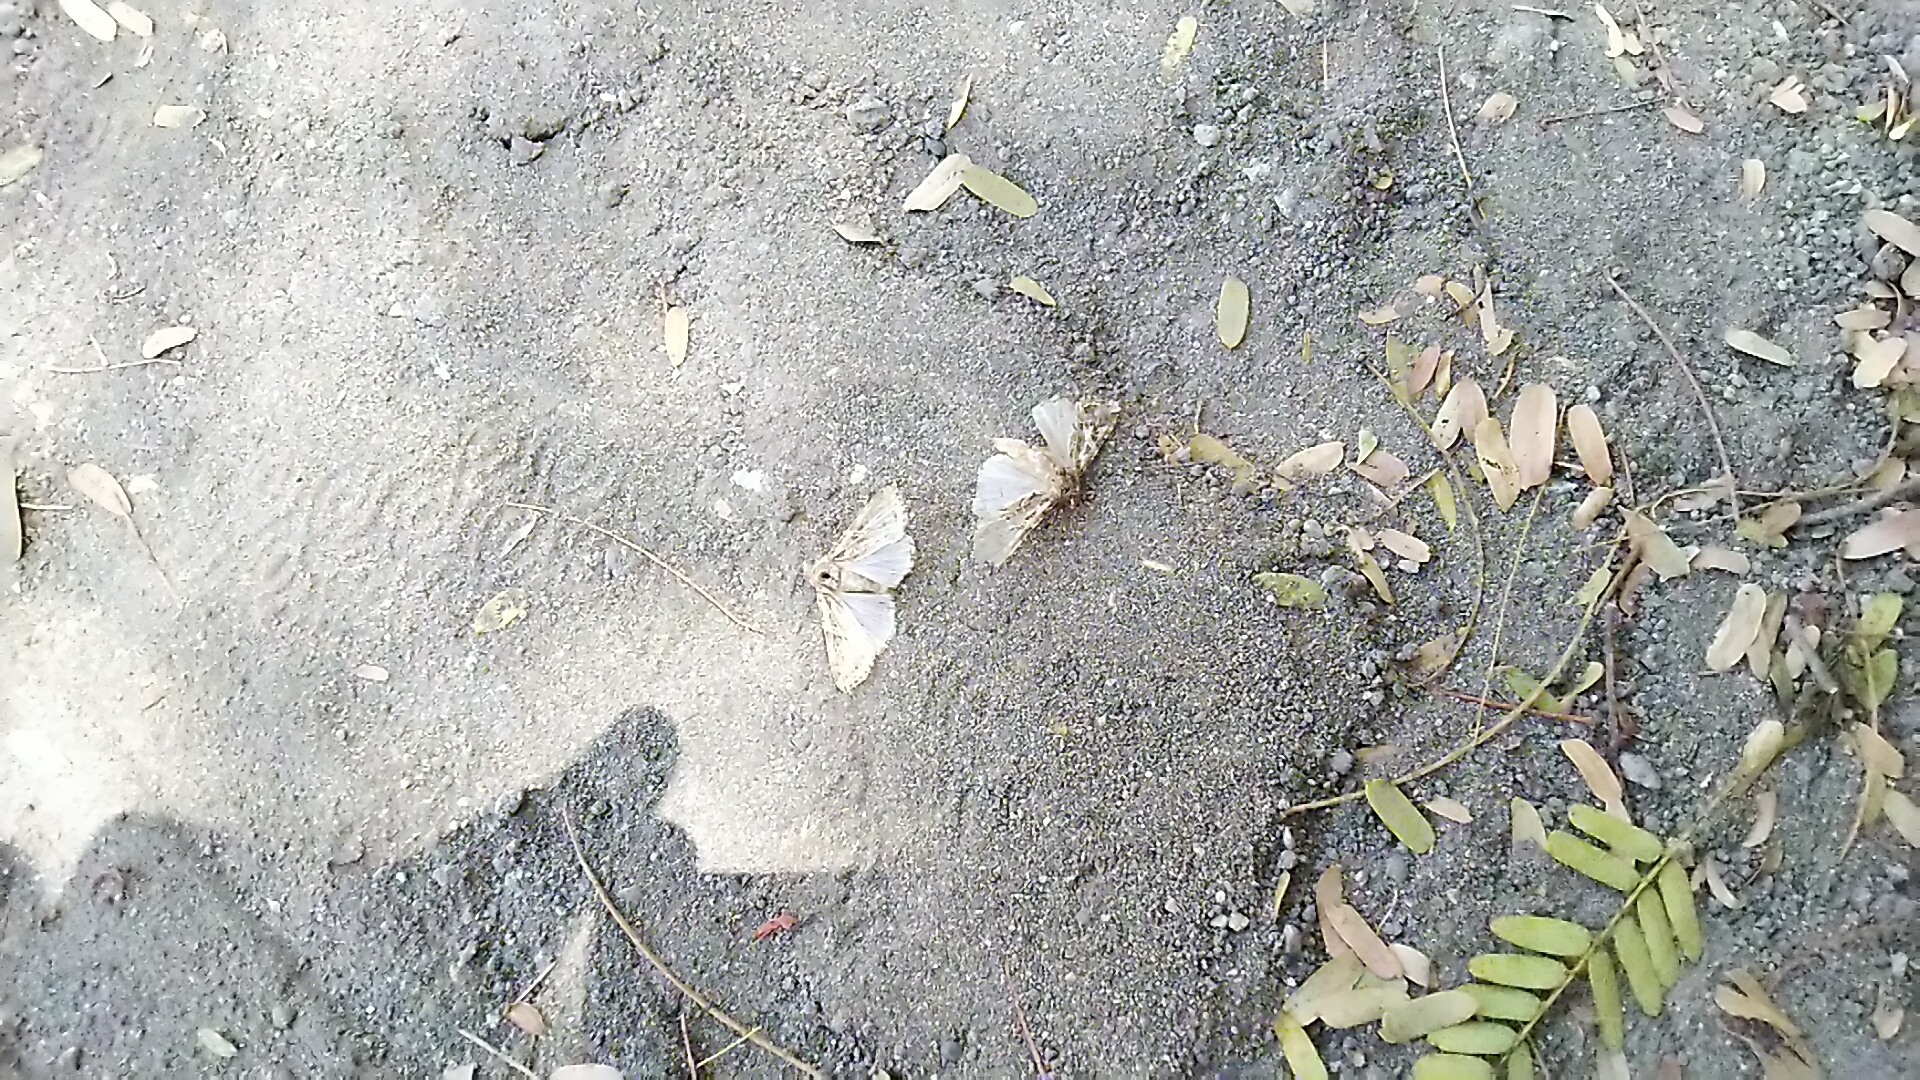INS-B: (960, 363, 1137, 589), (781, 480, 938, 699)
